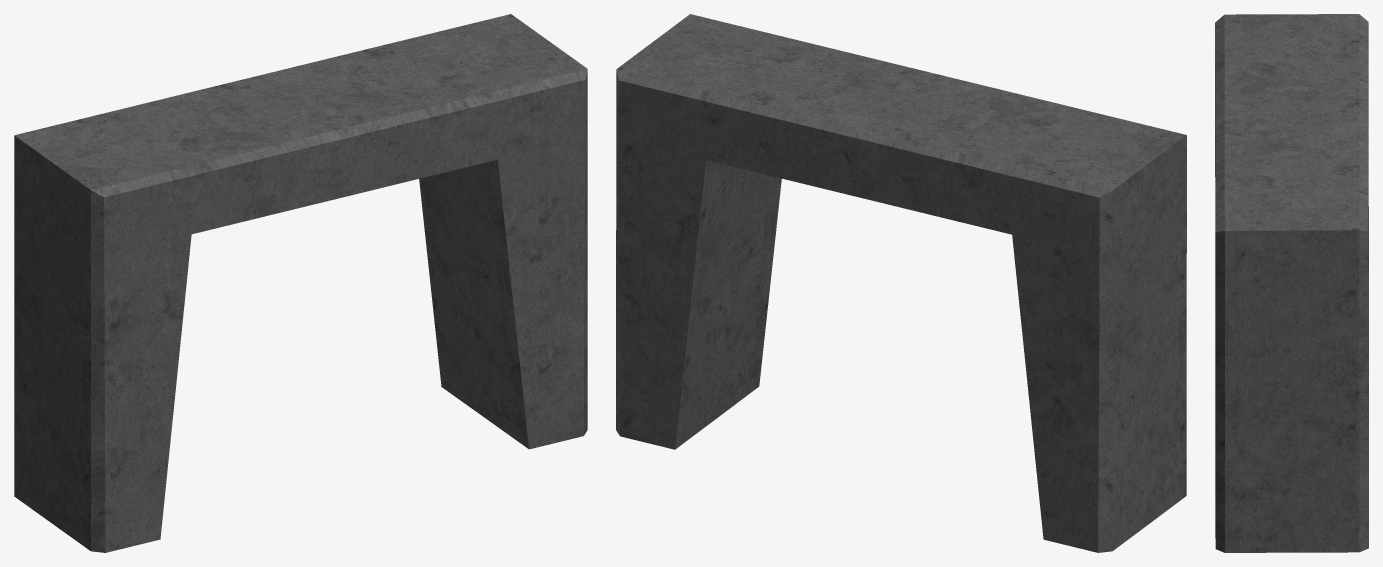
Rendered from aws_Archway_01_visual.DAE.
The picture shows the model from 3 angles, left to right: view 1: azimuth 30°, elevation 25°; view 2: azimuth 150°, elevation 25°; view 3: azimuth 270°, elevation 25°; orthographic projection. The views are drawn at different scales.
Parts seen in each view (by area): view 1: aws_Archway_01_visual; view 2: aws_Archway_01_visual; view 3: aws_Archway_01_visual.
Boxes of the visible parts, left/top/right/bottom form: aws_Archway_01_visual: left=14, top=14, right=587, bottom=552; aws_Archway_01_visual: left=616, top=14, right=1186, bottom=552; aws_Archway_01_visual: left=1215, top=14, right=1368, bottom=552.
Size of the model in its own units: 722 by 216 by 500.
Materials: 1 (1 with a texture image).
